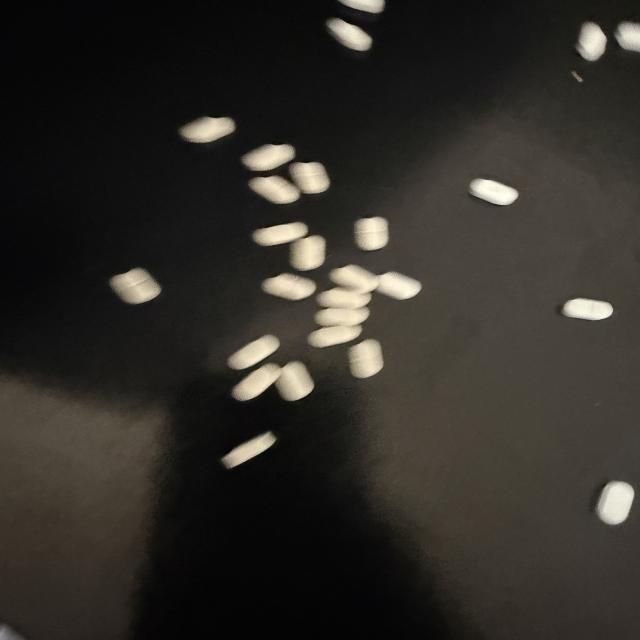pill: (221, 432, 276, 468), (109, 268, 161, 304), (232, 364, 280, 401), (228, 335, 279, 369), (596, 482, 634, 524), (326, 18, 372, 51), (276, 362, 314, 401), (179, 117, 235, 143), (262, 274, 316, 300), (241, 144, 295, 170), (330, 265, 379, 293), (249, 176, 299, 203), (349, 339, 383, 378), (469, 179, 518, 205), (289, 162, 330, 193), (253, 223, 308, 246), (376, 272, 421, 299), (290, 236, 325, 270), (308, 326, 362, 348), (576, 22, 606, 61), (317, 288, 371, 309), (314, 306, 370, 326), (355, 217, 388, 250), (562, 299, 613, 320), (614, 21, 640, 52), (339, 0, 384, 13)
